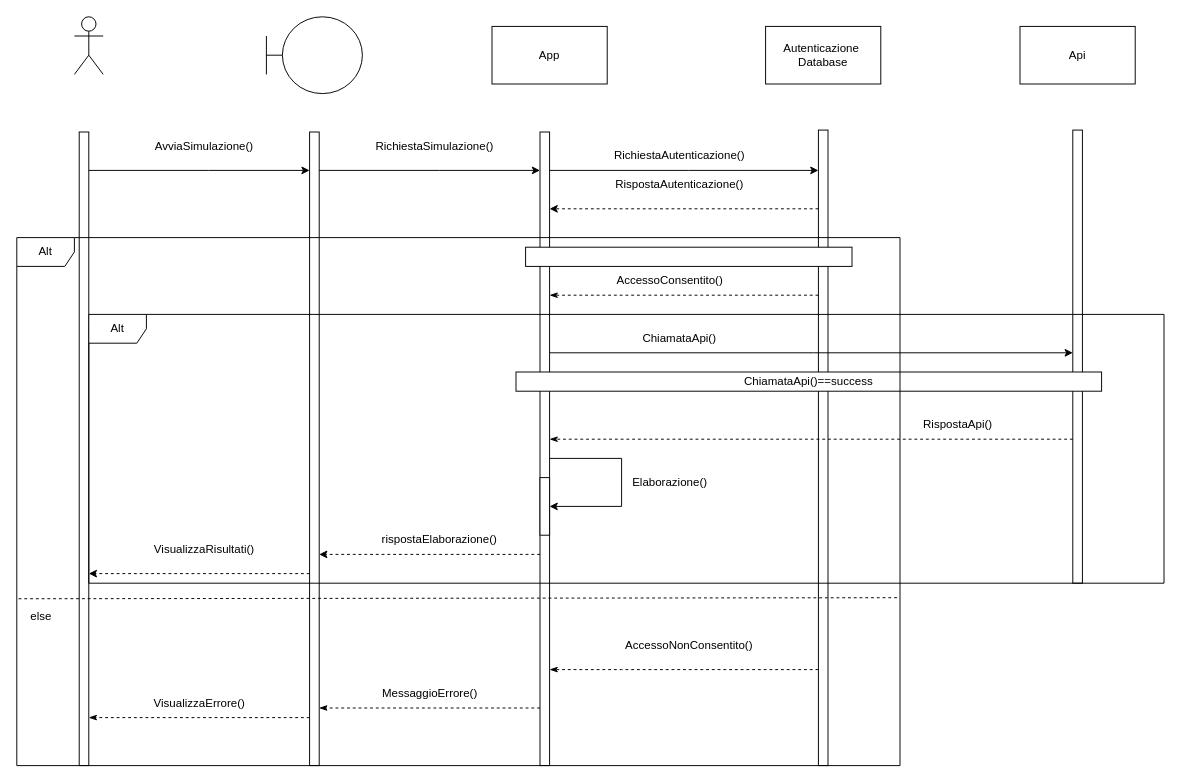
This 1181x782 diagram has some shape labels left out. Here are the shapes that lost their labels. From the top down, the centre of each, then its label:
At pixel 88 45: "Utente".
At pixel 313 55: "Schermata operativa".
At pixel 688 256: "RichiestaAutenticazione()==success".
